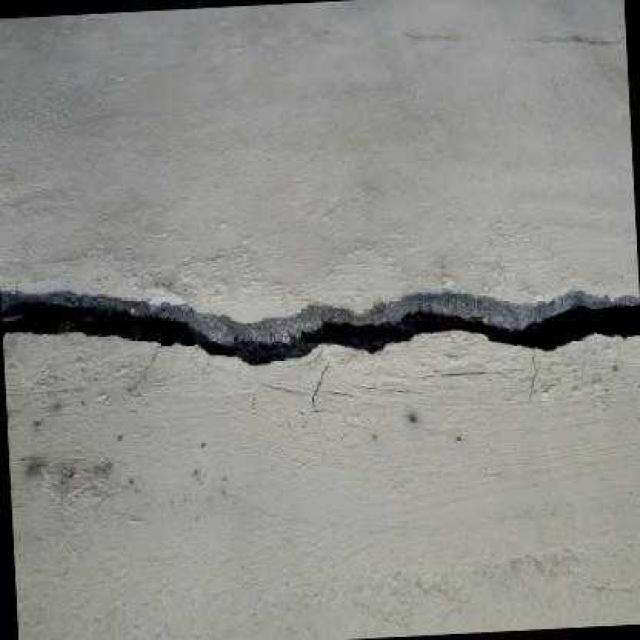D00: (0, 284, 640, 362)
